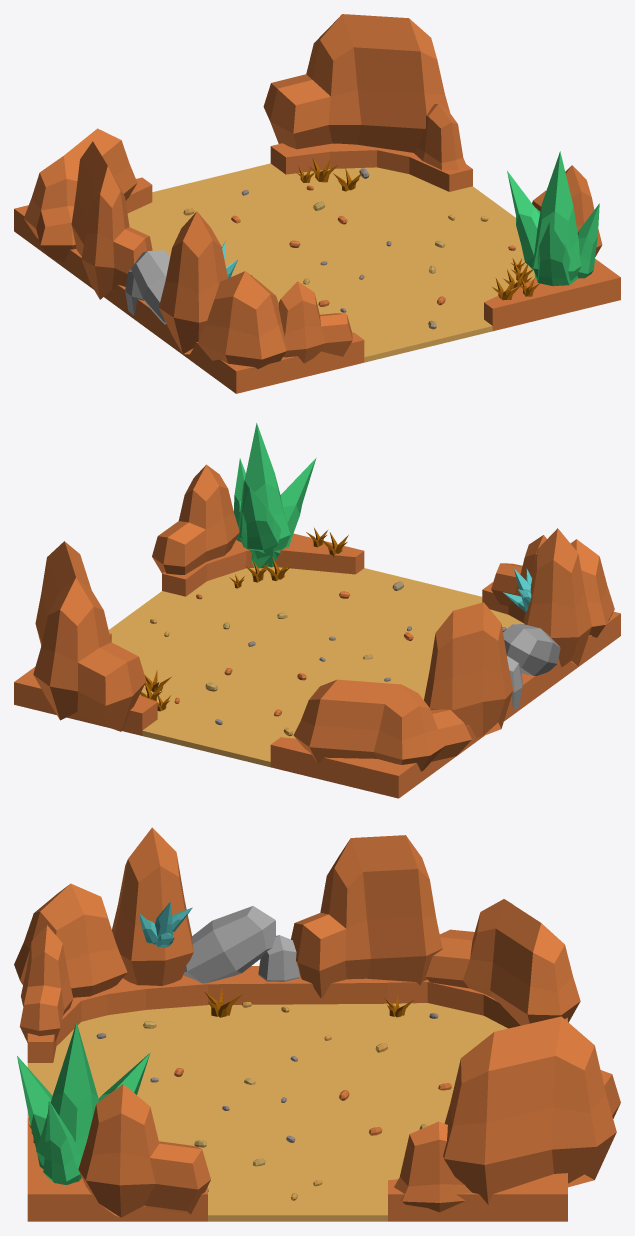
File: cave level set - 3 Way (4).fbx
3 views of the same model, one above another, from view 1: azimuth 30°, elevation 25°; view 2: azimuth 150°, elevation 25°; view 3: azimuth 270°, elevation 25° (orthographic). The views are drawn at different scales.
Parts seen in each view (by area): view 1: land_platform_001, Cube_008, Cube_003, Cube_001, Cube_005, Cube, Cube_004, Cube_002, Cube_006, Cube_007, Cube_009; view 2: land_platform_001, Cube_008, Cube_004, Cube_003, Cube, Cube_001, Cube_009, Cube_007, Cube_005, Cube_002; view 3: land_platform_001, Cube_008, Cube_003, Cube_004, Cube_009, Cube, Cube_001, Cube_005, Cube_007, Cube_002, Cube_006.
Part boxes in pixels (x1,y1,x2,y2): land_platform_001: (14,143,620,393); Cube_008: (263,14,449,152); Cube_003: (71,141,152,299); Cube_001: (507,151,599,286); Cube_005: (198,271,288,368); Cube: (159,211,237,354); Cube_004: (24,128,137,262); Cube_002: (278,281,352,363); Cube_006: (414,103,465,170); Cube_007: (125,250,170,324); Cube_009: (532,165,602,256); land_platform_001: (14,533,620,798); Cube_008: (33,541,146,731); Cube_004: (293,679,471,771); Cube_003: (424,602,513,737); Cube: (503,528,591,667); Cube_001: (233,423,316,568); Cube_009: (152,464,239,574); Cube_007: (503,624,560,710); Cube_005: (570,539,614,637); Cube_002: (491,535,546,606); land_platform_001: (27,966,567,1221); Cube_008: (443,1016,620,1204); Cube_003: (291,835,442,997); Cube_004: (425,899,580,1025); Cube_009: (78,1084,210,1217); Cube: (112,827,193,985); Cube_001: (17,1022,150,1184); Cube_005: (14,883,127,997); Cube_007: (183,906,299,983); Cube_002: (19,925,73,1042); Cube_006: (394,1121,471,1212).
Size of the model in its own units: 16.66 by 5.75 by 17.05.
